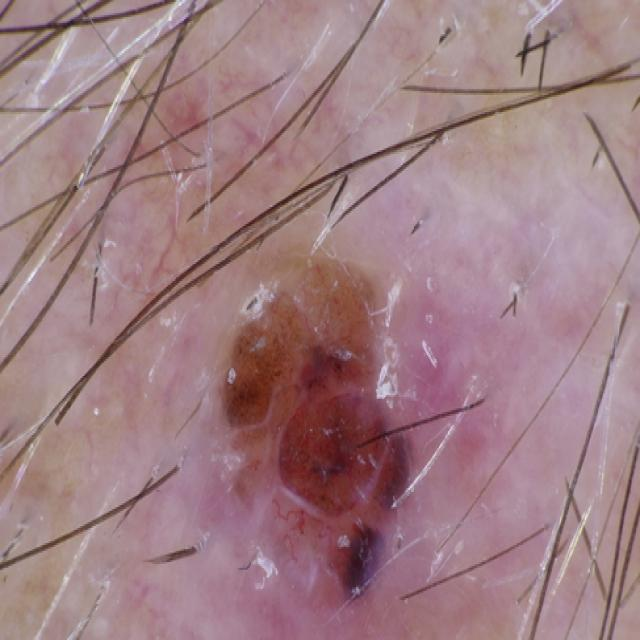Carcinoma: (199, 237, 513, 640)
